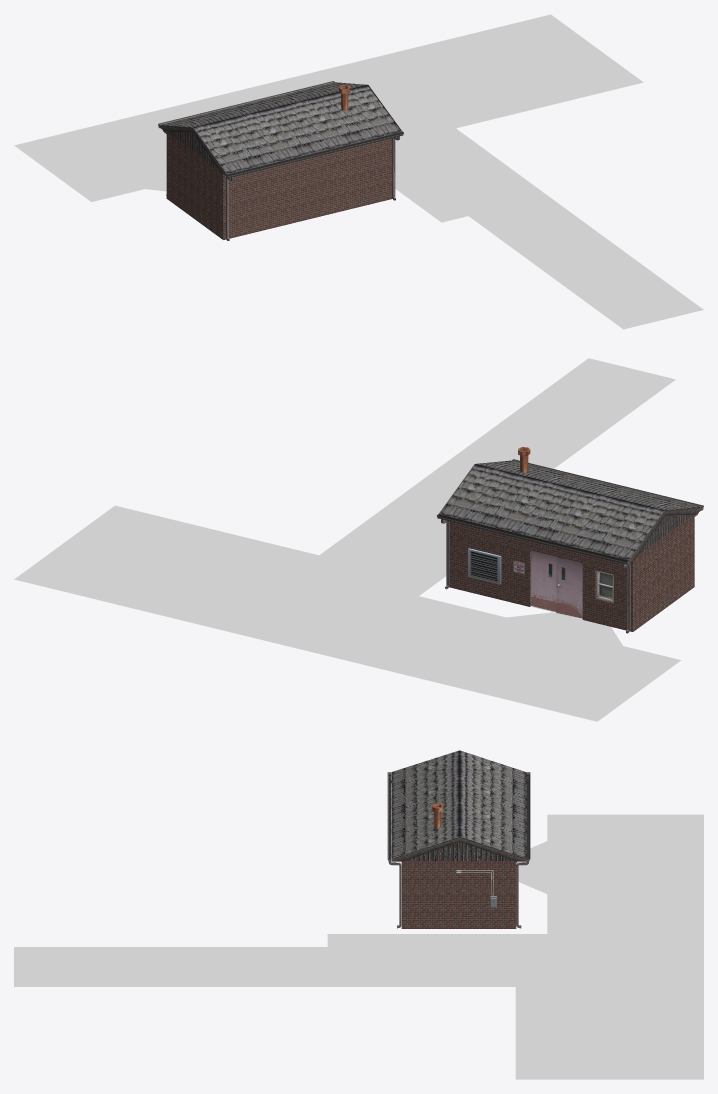
Rendered from town.gltf.
3 views of the same model, one above another, from view 1: azimuth 30°, elevation 25°; view 2: azimuth 150°, elevation 25°; view 3: azimuth 270°, elevation 25° (orthographic). The views are drawn at different scales.
Visible parts, largest first — view 1: walkable, building_01, building_01_roof, building_01_guttertop.001; view 2: walkable, building_01_roof, building_01, Door_Shed_A.001, building_01_guttertop, building_01_vent; view 3: walkable, building_01_roof, building_01.
Part boxes in pixels (x1,y1,x2,y2): walkable: [14, 14, 703, 329]; building_01: [166, 132, 395, 239]; building_01_roof: [160, 82, 401, 176]; building_01_guttertop.001: [227, 131, 403, 177]; walkable: [14, 358, 680, 721]; building_01_roof: [439, 460, 701, 562]; building_01: [446, 515, 694, 631]; Door_Shed_A.001: [530, 551, 582, 619]; building_01_guttertop: [437, 514, 629, 564]; building_01_vent: [468, 548, 501, 584]; walkable: [14, 814, 703, 1079]; building_01_roof: [391, 750, 526, 861]; building_01: [401, 861, 516, 928].
Size of what is drawn, in the model's own units: 20 by 3.76 by 22.
Materials: 15 (15 with a texture image).
